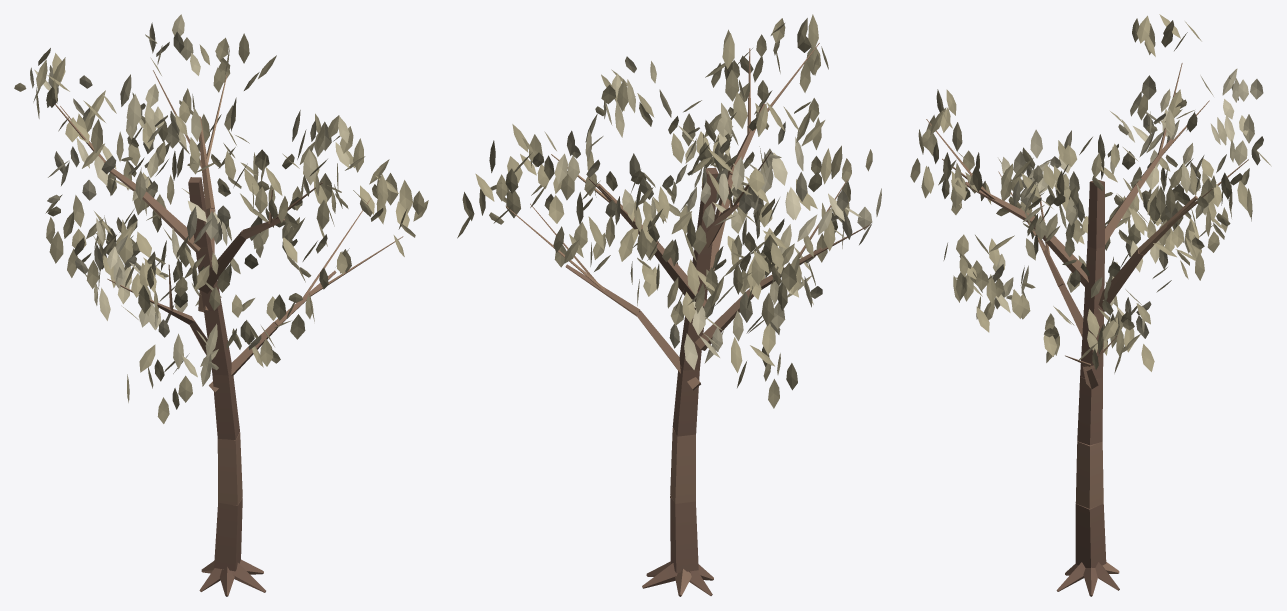
File: tree_3d_06_golden_beige.glb
The picture shows the model from 3 angles, left to right: view 1: azimuth 30°, elevation 25°; view 2: azimuth 150°, elevation 25°; view 3: azimuth 270°, elevation 25°; orthographic projection. The views are drawn at different scales.
Parts seen in each view (by area): view 1: tree_3d_06_golden_beige_foliage, tree_3d_06_golden_beige_wood; view 2: tree_3d_06_golden_beige_foliage, tree_3d_06_golden_beige_wood; view 3: tree_3d_06_golden_beige_foliage, tree_3d_06_golden_beige_wood.
Boxes of the visible parts, left/top/right/bottom form: tree_3d_06_golden_beige_foliage: left=14, top=14, right=428, bottom=423; tree_3d_06_golden_beige_wood: left=55, top=70, right=403, bottom=596; tree_3d_06_golden_beige_foliage: left=457, top=14, right=881, bottom=408; tree_3d_06_golden_beige_wood: left=505, top=43, right=870, bottom=596; tree_3d_06_golden_beige_foliage: left=910, top=14, right=1271, bottom=373; tree_3d_06_golden_beige_wood: left=926, top=63, right=1248, bottom=596.
Size of the model in its own units: 5.8 by 8 by 5.2.
